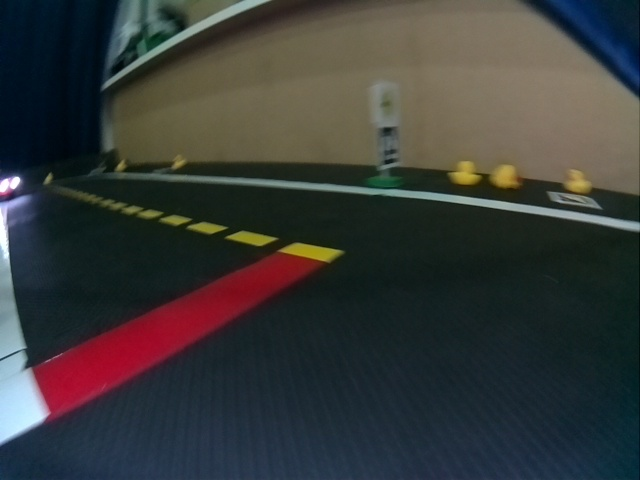Duckie: (452, 161, 481, 185), (564, 170, 592, 193), (493, 166, 521, 187), (173, 156, 186, 169), (115, 160, 127, 171)
Intersection sign: (376, 88, 399, 119)
QR code: (549, 191, 600, 209), (379, 126, 401, 167)
